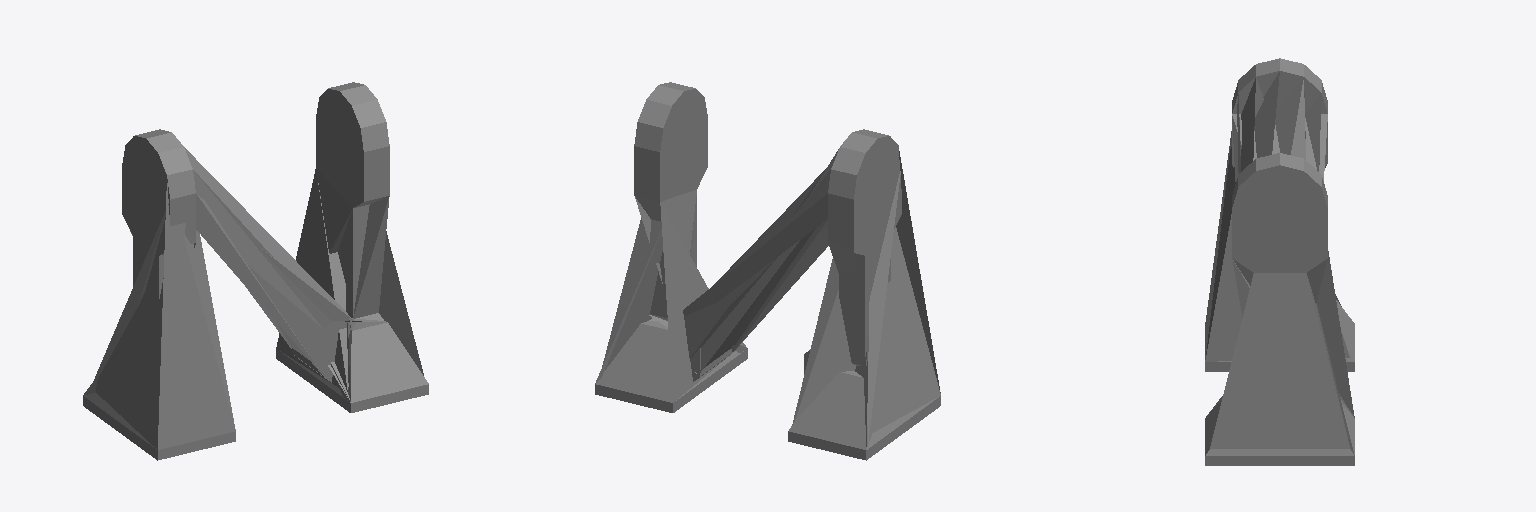
The picture shows the model from 3 angles: view 1: azimuth 30°, elevation 25°; view 2: azimuth 150°, elevation 25°; view 3: azimuth 270°, elevation 25°; orthographic projection.
Parts seen in each view (by area): view 1: R2D2_Body, R2D2_Legs; view 2: R2D2_Body, R2D2_Legs; view 3: R2D2_Body, R2D2_Legs.
Part boxes in pixels (left/top/right/bottom): R2D2_Body: left=83, top=145, right=423, bottom=459; R2D2_Legs: left=83, top=82, right=428, bottom=460; R2D2_Body: left=595, top=149, right=940, bottom=460; R2D2_Legs: left=595, top=82, right=940, bottom=459; R2D2_Body: left=1205, top=72, right=1354, bottom=455; R2D2_Legs: left=1205, top=58, right=1354, bottom=465.
Size of the model in its own units: 5.72 by 5.8 by 2.73.